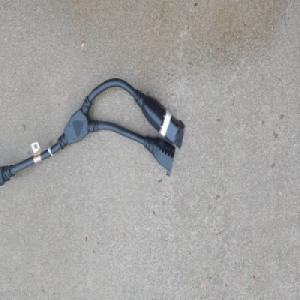Wire: (0, 74, 186, 187)
